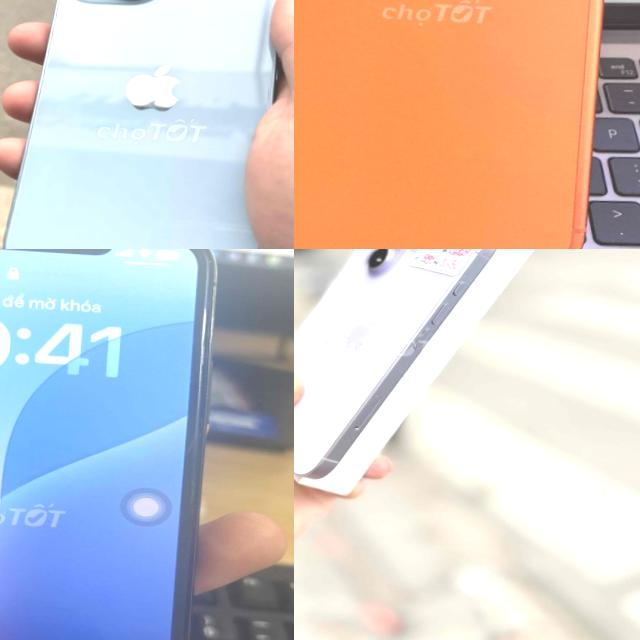gen_14: (0, 0, 294, 249)
gen_17: (294, 0, 624, 249), (294, 249, 502, 498)
gen_x_xs: (0, 249, 215, 640)
scratch: (181, 249, 228, 271)
